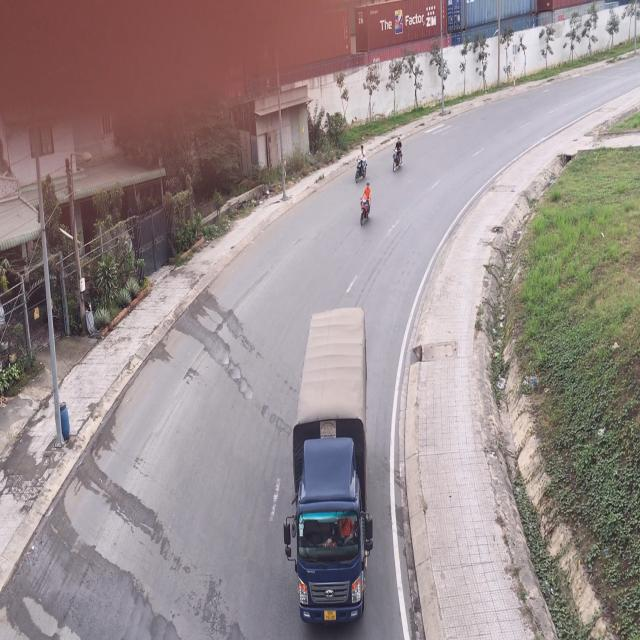motorbike: (357, 182, 373, 230), (391, 134, 404, 174), (355, 148, 368, 183)
truck: (284, 308, 373, 628)
